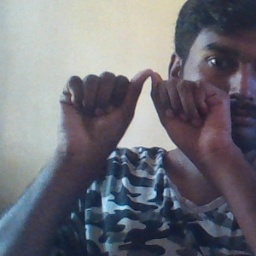A: (84, 59, 215, 161)
